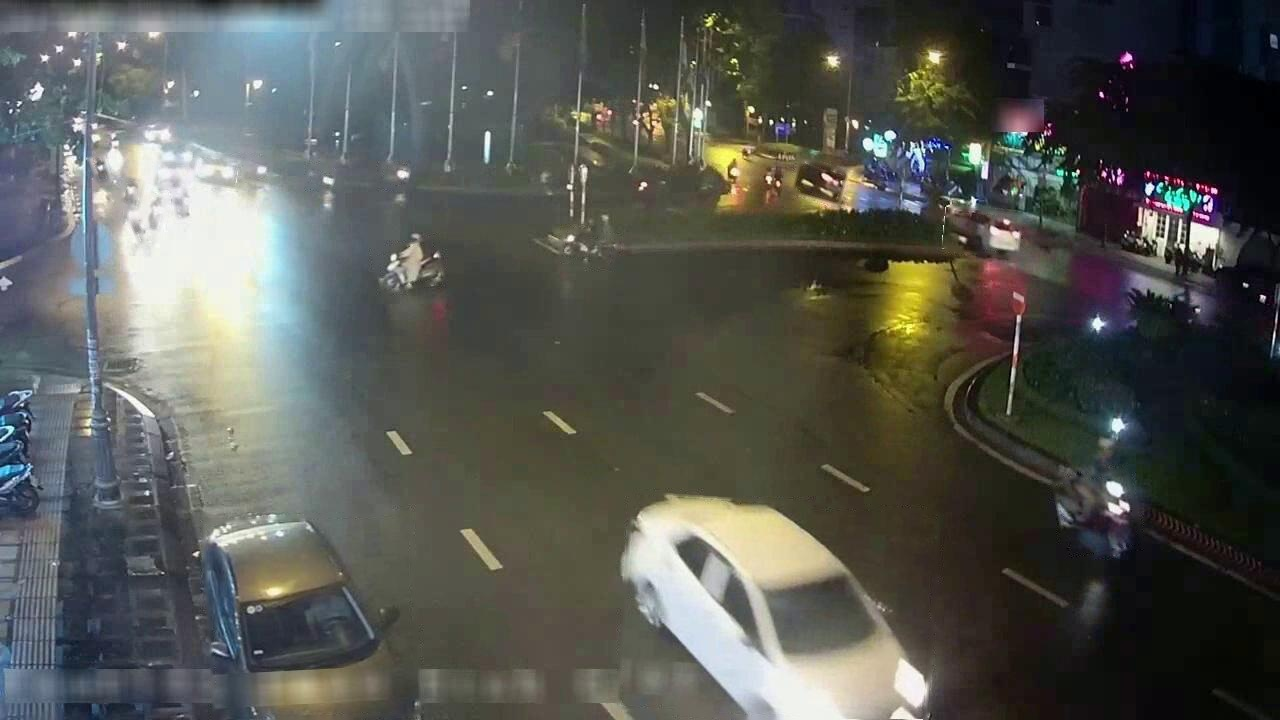Car: (620, 495, 928, 719), (201, 514, 387, 673), (948, 210, 1020, 255), (795, 163, 844, 201), (195, 157, 238, 185), (157, 161, 189, 188)
Motorcycle: (0, 463, 39, 515)
Motorcyclist: (1054, 468, 1134, 559), (379, 246, 445, 291), (560, 230, 616, 261), (379, 165, 410, 190), (128, 207, 148, 241), (146, 195, 165, 229), (306, 170, 335, 191), (244, 161, 270, 183), (123, 179, 140, 209), (173, 188, 189, 216), (93, 157, 108, 181)
Pedestrian: (1174, 246, 1186, 275)
Sign: (1012, 291, 1025, 315)
